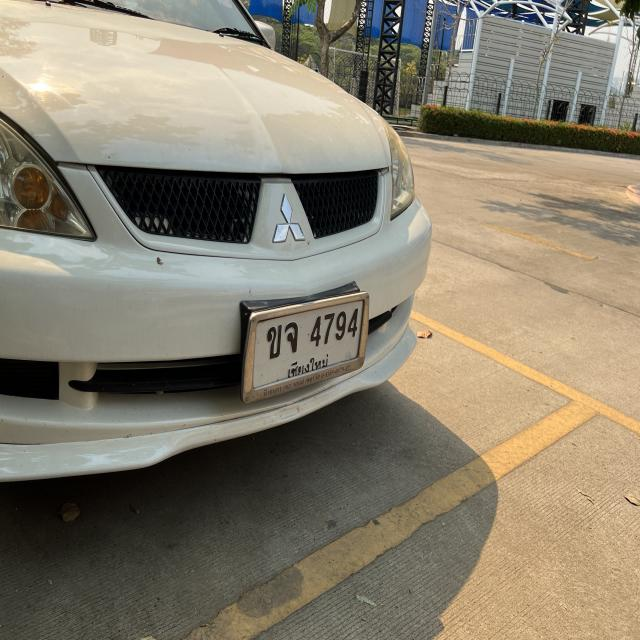license_plate: (240, 288, 368, 408)
